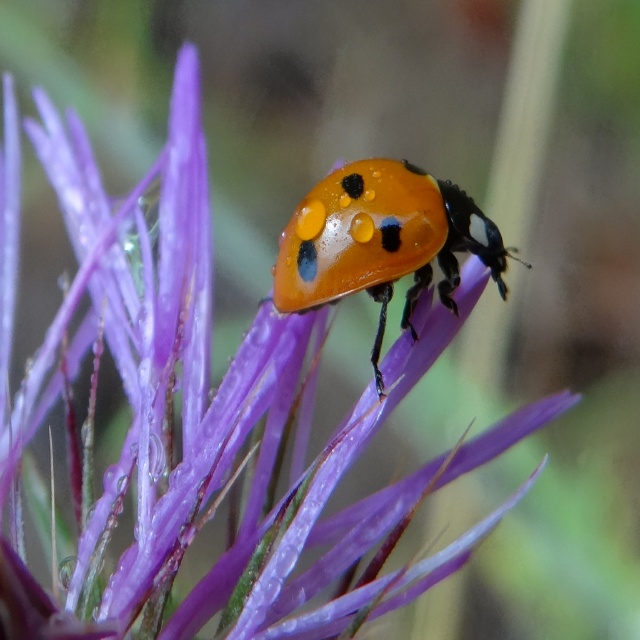Ladybug: (272, 157, 533, 404)
